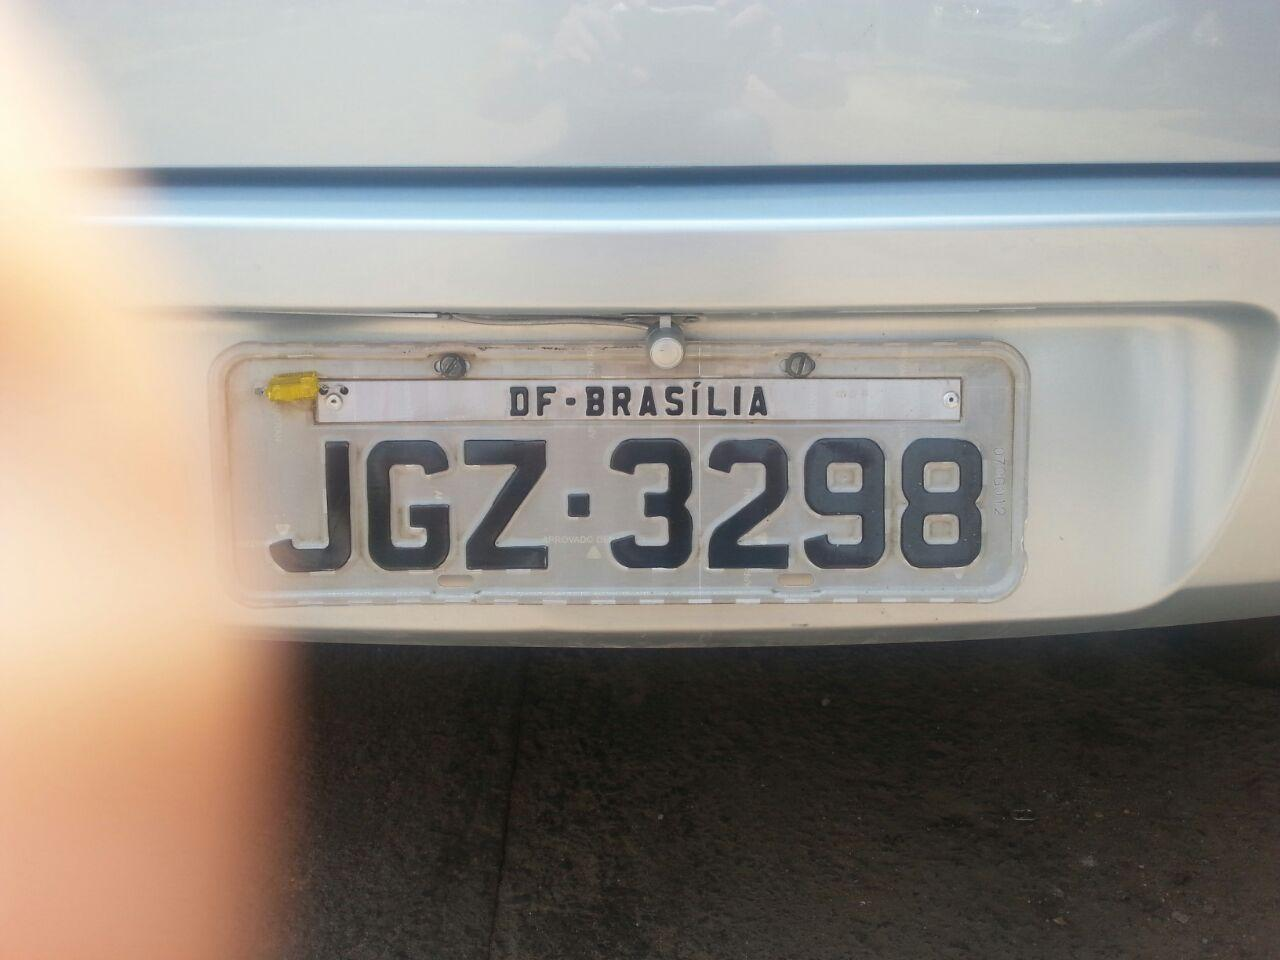placa de veiculo: (190, 301, 1094, 630)
